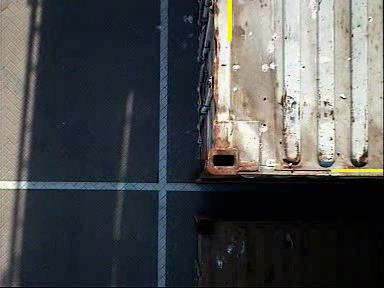groundmarker_2: (191, 226, 222, 288), (193, 56, 224, 117)
